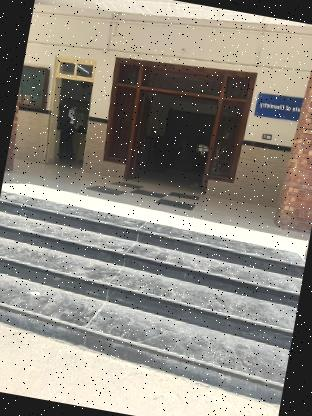door: (91, 42, 260, 212)
stair: (0, 199, 287, 393)
